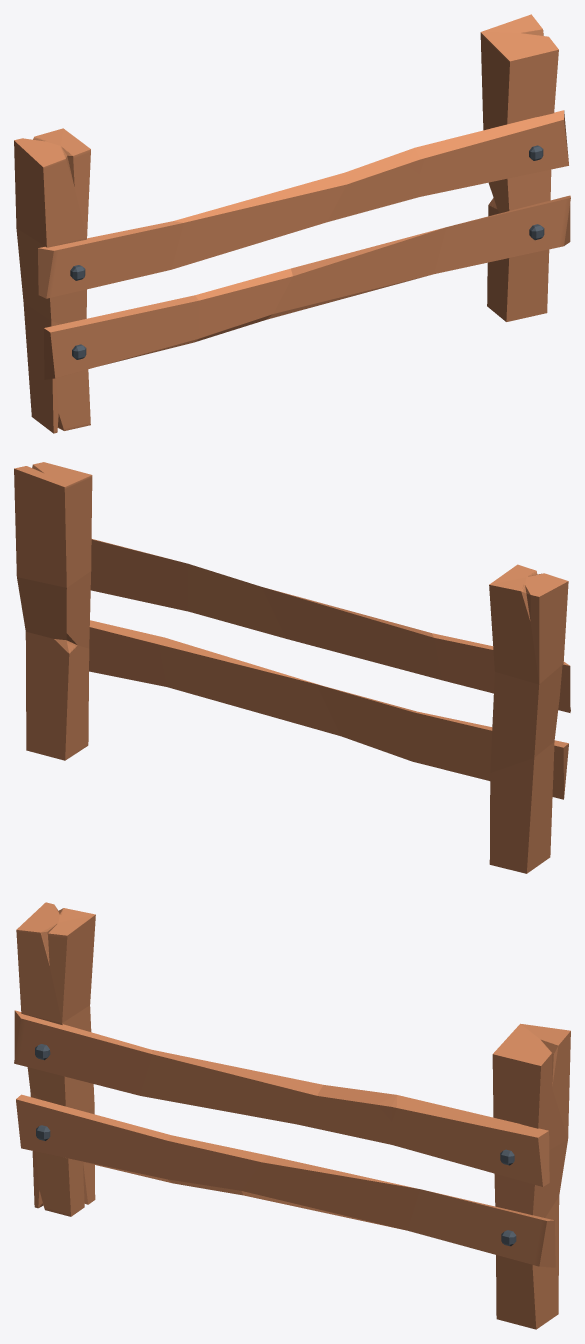
Rendered from fence_01.fbx.
3 renders of one model, top to bottom at view 1: azimuth 30°, elevation 25°; view 2: azimuth 150°, elevation 25°; view 3: azimuth 330°, elevation 25°, orthographic.
Parts seen in each view (by area): view 1: fence_01; view 2: fence_01; view 3: fence_01.
Boxes of the visible parts, x1=… form: fence_01: x1=14, y1=14, x2=570, y2=433; fence_01: x1=14, y1=462, x2=570, y2=873; fence_01: x1=14, y1=902, x2=570, y2=1329.
Bounding box in the file's own units: 901 × 450 × 108.
2 materials, 2 textured.
